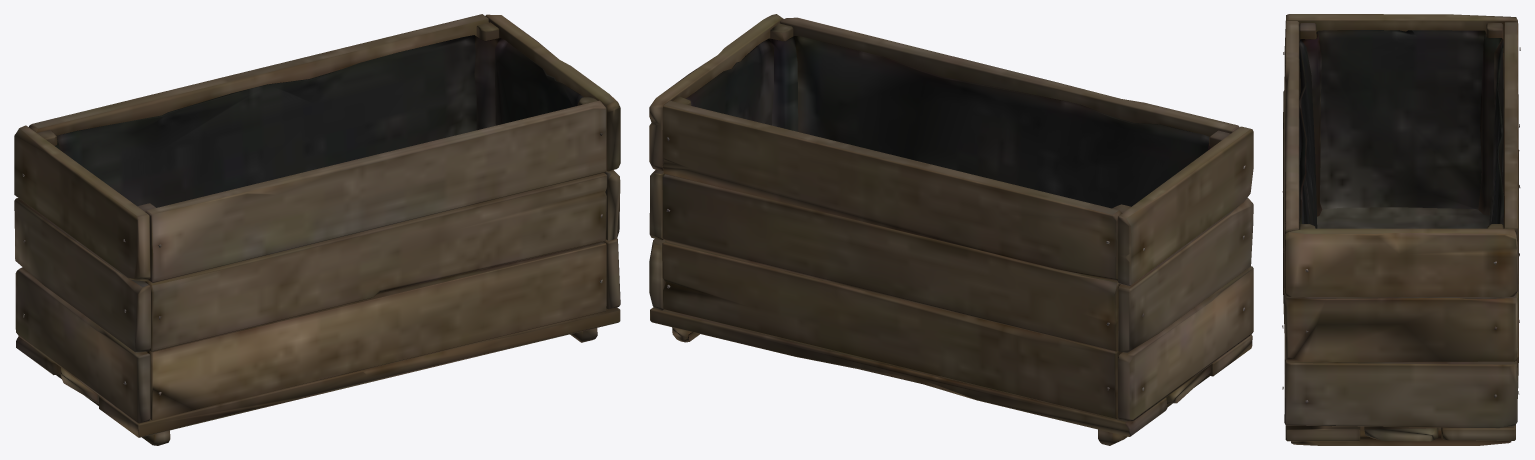
File: planter_box_01.glb
3 renders of one model, left to right at view 1: azimuth 30°, elevation 25°; view 2: azimuth 150°, elevation 25°; view 3: azimuth 270°, elevation 25°, orthographic. The views are drawn at different scales.
Parts seen in each view (by area): view 1: planter_box_01; view 2: planter_box_01; view 3: planter_box_01.
Boxes of the visible parts, <box> form: planter_box_01: <box>14,14,620,445</box>; planter_box_01: <box>649,14,1253,445</box>; planter_box_01: <box>1282,14,1520,445</box>.
Bounding box in the file's own units: 0.9126 × 0.425 × 0.4135.
Materials: 1 (1 with a texture image).
